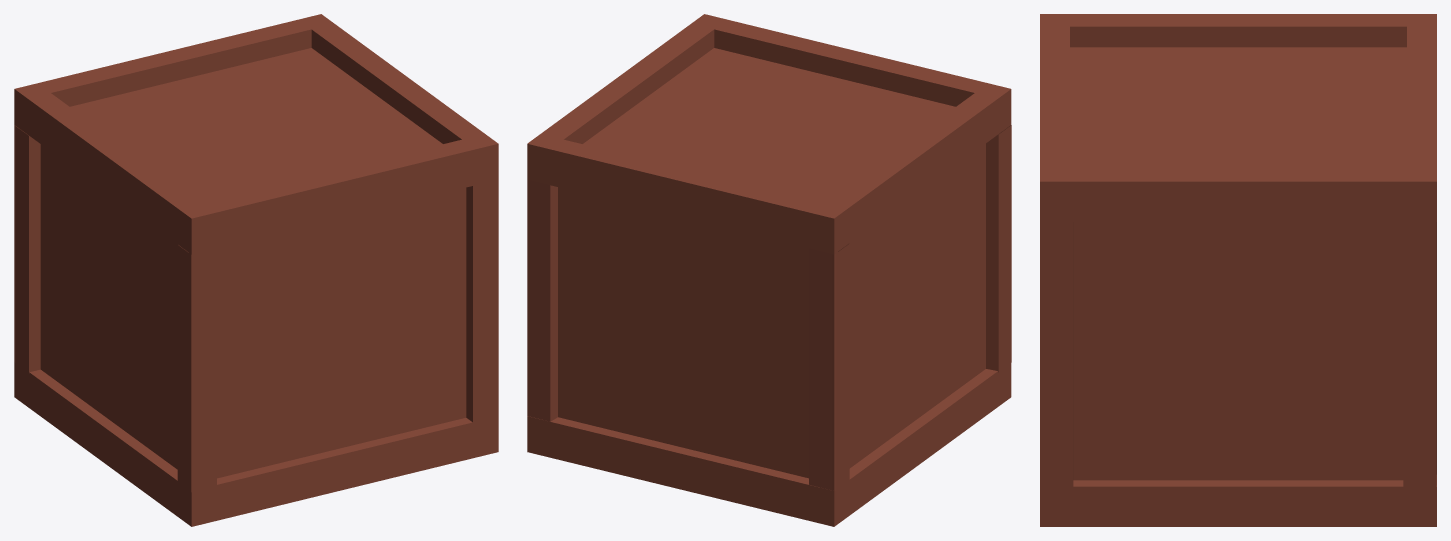
The model's file is Caixa2 PRONTO.fbx.
3 renders of one model, left to right at view 1: azimuth 30°, elevation 25°; view 2: azimuth 150°, elevation 25°; view 3: azimuth 270°, elevation 25°, orthographic. The views are drawn at different scales.
Visible parts, largest first — view 1: Caixa; view 2: Caixa; view 3: Caixa.
Part boxes in pixels (bbox=[...]): Caixa: bbox=[14, 14, 498, 526]; Caixa: bbox=[527, 14, 1011, 526]; Caixa: bbox=[1040, 14, 1436, 526].
Bounding box in the file's own units: 220 × 211 × 220.
